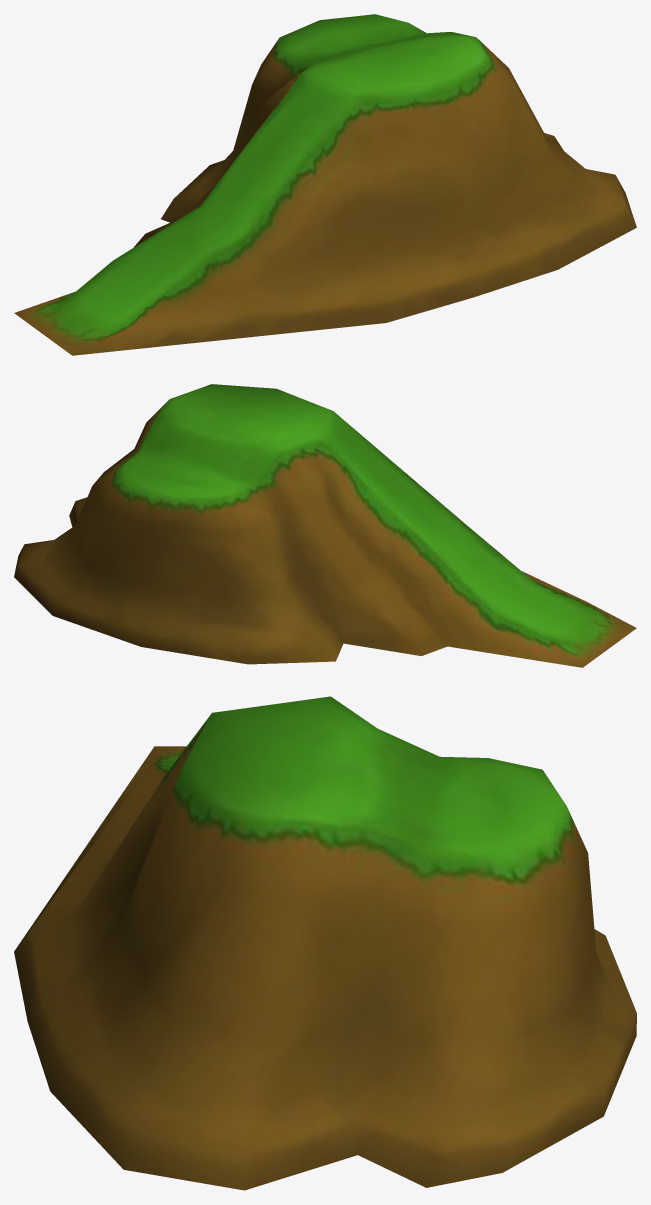
Rendered from platform_model.glb.
The picture shows the model from 3 angles, top to bottom: view 1: azimuth 30°, elevation 25°; view 2: azimuth 150°, elevation 25°; view 3: azimuth 270°, elevation 25°; orthographic projection. The views are drawn at different scales.
Parts seen in each view (by area): view 1: platform_t14; view 2: platform_t14; view 3: platform_t14.
Boxes of the visible parts, x1,y1,x2,y2 form: platform_t14: (14,14,636,355); platform_t14: (14,384,636,667); platform_t14: (14,696,636,1190).
Size of what is drawn, in the model's own units: 41.9 by 11.82 by 24.83.
Materials: 1 (1 with a texture image).
